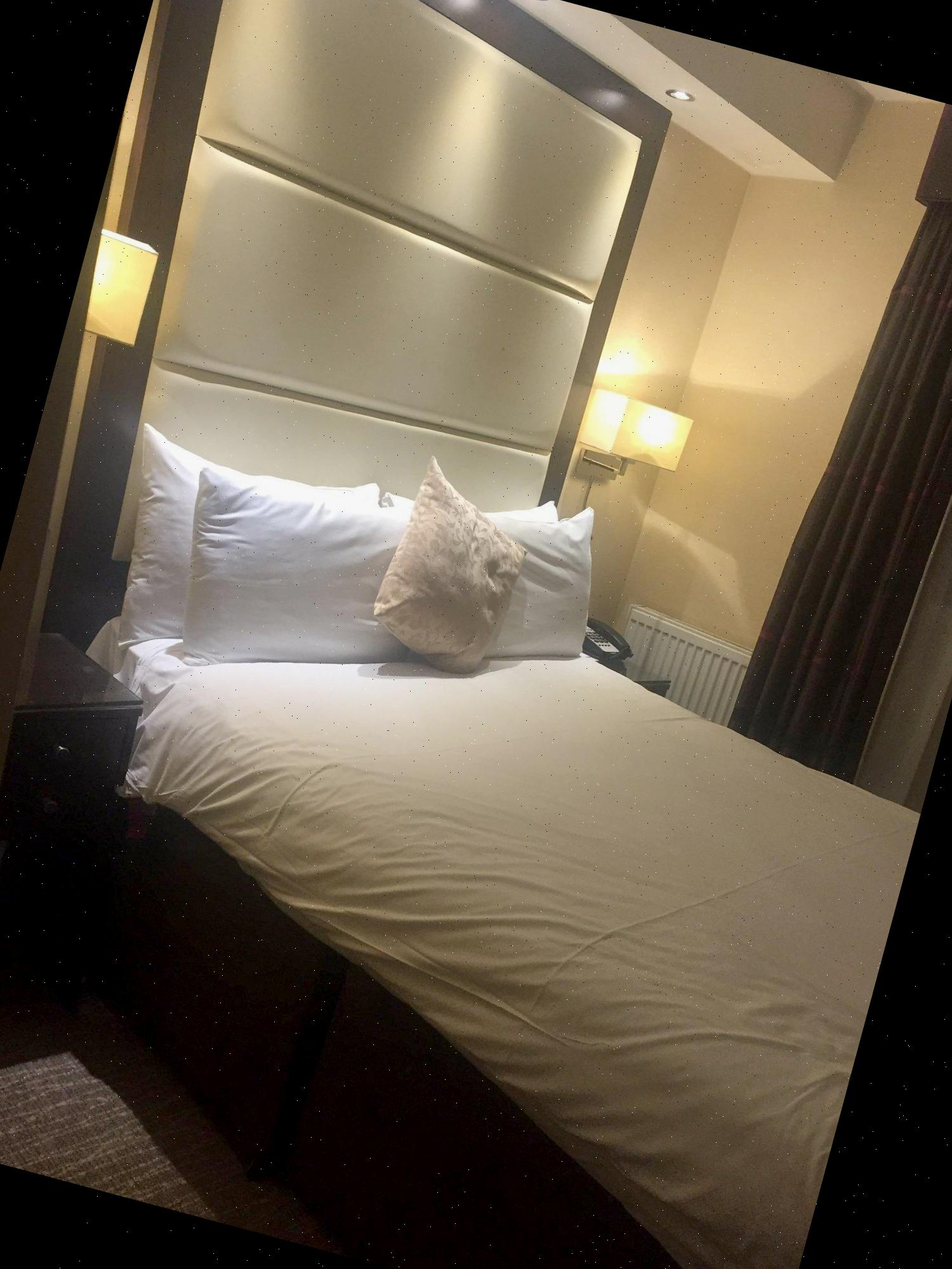clean_bed: (80, 425, 918, 1269)
lamp: (113, 430, 593, 659), (557, 385, 697, 512)
